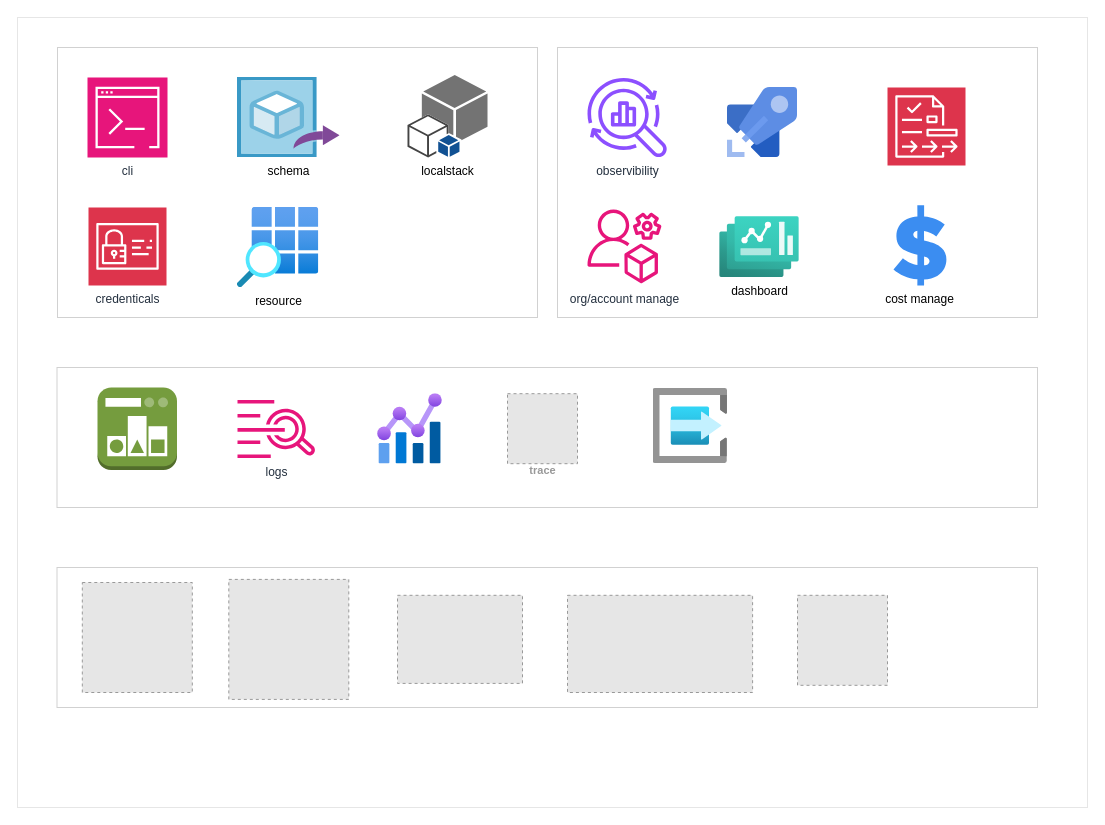
Image size: 1105x825. Some labels were removed from this diagram. Grey dashed boxes stand in for pictures. Here are the shapes that lost their labels. From the top down, the centre of each, then its label:
point (762, 122): CI/CD
point (926, 126): audit
point (136, 428): state
point (409, 428): metrics
point (690, 425): time-series audit
